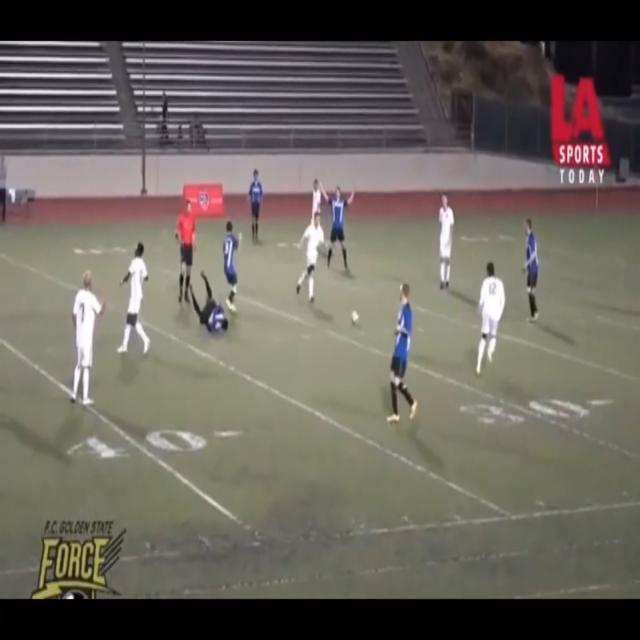football: (342, 310, 375, 331)
